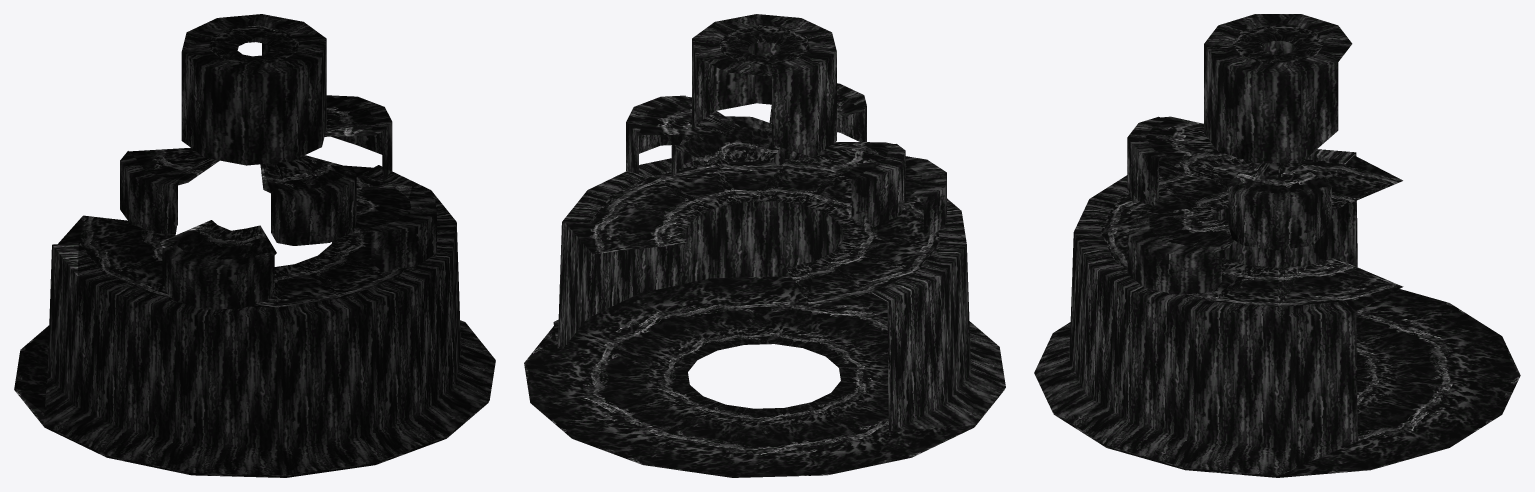
The model's file is stg110_MotWater_10.obj.
3 views of the same model, side by side, from view 1: azimuth 30°, elevation 25°; view 2: azimuth 150°, elevation 25°; view 3: azimuth 270°, elevation 25° (orthographic).
Visible parts, largest first — view 1: polygon1, polygon2, polygon6, polygon3, polygon4, polygon8, polygon7, polygon5, polygon9, polygon0; view 2: polygon5, polygon6, polygon1, polygon0, polygon2, polygon3, polygon8, polygon7, polygon4, polygon9; view 3: polygon1, polygon5, polygon2, polygon6, polygon3, polygon4, polygon0, polygon8, polygon7, polygon9.
Boxes of the visible parts, x1,y1,x2,y2 form: polygon1: [43, 165, 495, 475]; polygon2: [181, 14, 326, 165]; polygon6: [58, 165, 406, 307]; polygon3: [120, 95, 392, 245]; polygon4: [162, 184, 436, 309]; polygon8: [129, 96, 381, 193]; polygon7: [159, 184, 411, 259]; polygon5: [14, 325, 488, 477]; polygon9: [208, 25, 299, 64]; polygon0: [43, 174, 495, 476]; polygon5: [524, 276, 1004, 477]; polygon6: [566, 160, 938, 307]; polygon1: [553, 149, 1005, 430]; polygon0: [560, 159, 1005, 430]; polygon2: [692, 14, 836, 157]; polygon3: [626, 83, 905, 225]; polygon8: [639, 93, 893, 179]; polygon7: [674, 127, 923, 204]; polygon4: [671, 116, 946, 235]; polygon9: [702, 25, 809, 76]; polygon1: [1034, 149, 1357, 475]; polygon5: [1053, 289, 1520, 477]; polygon2: [1204, 14, 1352, 162]; polygon6: [1102, 155, 1403, 310]; polygon3: [1127, 116, 1331, 250]; polygon4: [1127, 187, 1221, 294]; polygon0: [1034, 154, 1356, 476]; polygon8: [1145, 116, 1329, 193]; polygon7: [1142, 150, 1246, 250]; polygon9: [1231, 25, 1324, 62].
Bounding box in the file's own units: 271 × 203 × 270.
